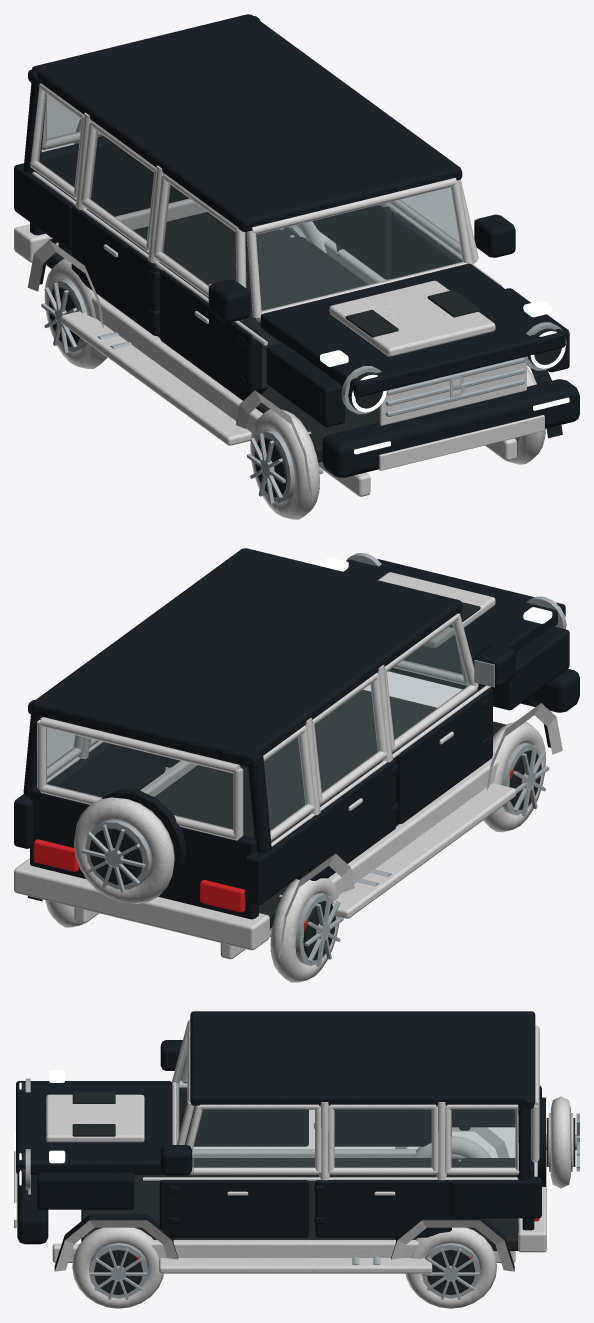
File: brabus-g-lod.glb
The picture shows the model from 3 angles, top to bottom: view 1: azimuth 30°, elevation 25°; view 2: azimuth 150°, elevation 25°; view 3: azimuth 270°, elevation 25°; orthographic projection. The views are drawn at different scales.
Visible parts, largest first — view 1: military_paint_batch, rubber_batch (×4), armoured_glass_batch, cabin_trim_batch (×2), brightwork_batch (×3), headlamp_batch; view 2: military_paint_batch (×2), rubber_batch (×5), armoured_glass_batch, cabin_trim_batch (×4), brightwork_batch (×4), tail_lamp_batch, headlamp_batch; view 3: military_paint_batch (×2), rubber_batch (×5), armoured_glass_batch, cabin_trim_batch (×3), brightwork_batch (×4), headlamp_batch.
Boxes of the visible parts, x1,y1,x2,y2 form: military_paint_batch: (14, 14, 579, 477); rubber_batch (×4): (14, 83, 545, 519); armoured_glass_batch: (37, 93, 463, 310); cabin_trim_batch (×2): (46, 212, 561, 497); brightwork_batch (×3): (41, 219, 566, 503); headlamp_batch: (320, 300, 569, 454); military_paint_batch (×2): (14, 548, 579, 919); rubber_batch (×5): (14, 572, 562, 982); armoured_glass_batch: (46, 623, 470, 830); cabin_trim_batch (×4): (89, 602, 541, 960); brightwork_batch (×4): (81, 553, 566, 966); tail_lamp_batch: (33, 839, 245, 912); headlamp_batch: (320, 557, 568, 668); military_paint_batch (×2): (16, 1011, 545, 1271); rubber_batch (×5): (14, 1019, 570, 1308); armoured_glass_batch: (176, 1043, 514, 1167); cabin_trim_batch (×3): (21, 1082, 518, 1294); brightwork_batch (×4): (25, 1078, 579, 1299); headlamp_batch: (14, 1070, 65, 1219).
Size of the model in its own units: 2.36 by 2.01 by 4.89.
Materials: 9 (2 with a texture image).
